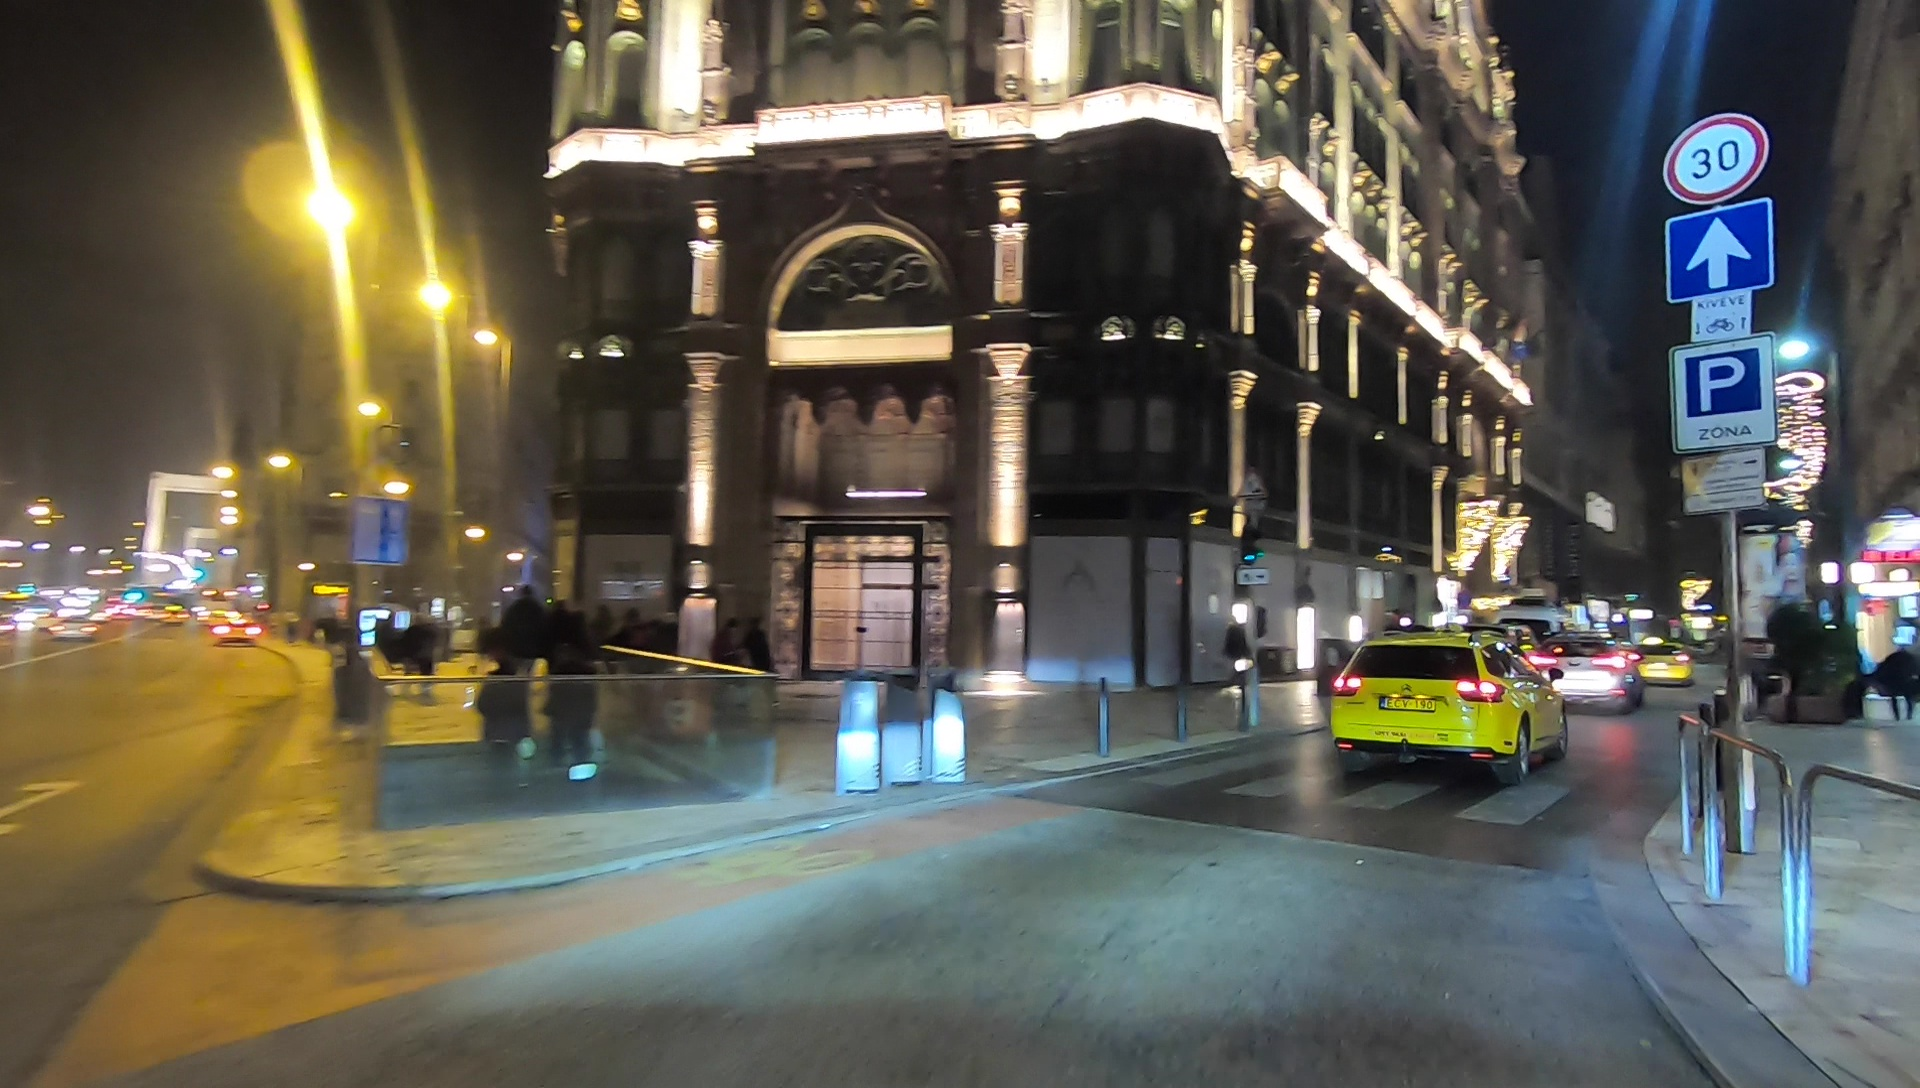person: (502, 585, 545, 727), (1770, 593, 1813, 724), (615, 601, 654, 718), (549, 597, 585, 720), (714, 608, 747, 737), (745, 615, 779, 719), (403, 613, 439, 708), (588, 601, 614, 712), (374, 609, 404, 702)
